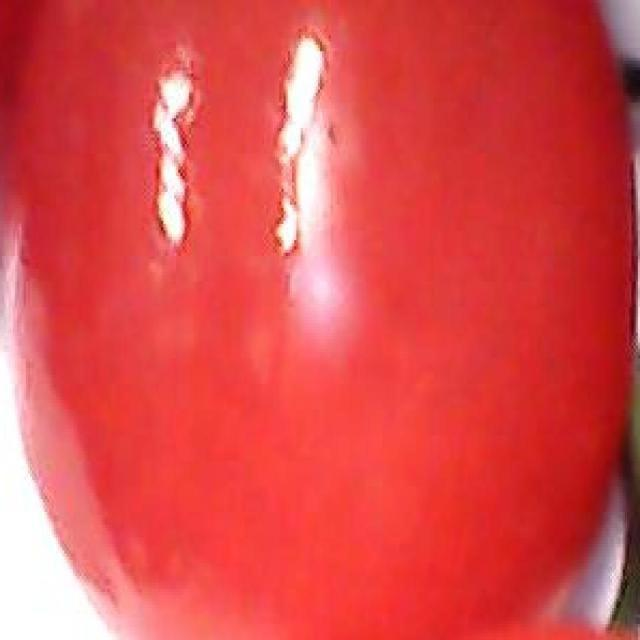Healthy Fruit: (2, 6, 427, 427)
